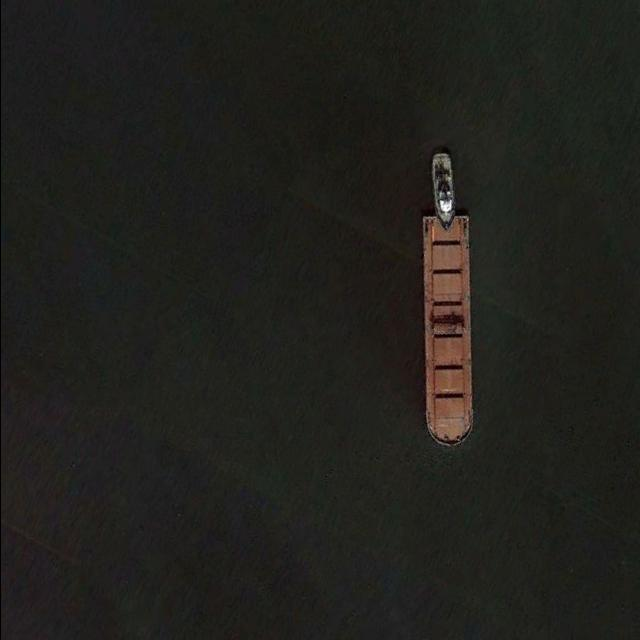ship: (421, 214, 476, 447), (429, 148, 458, 232)
